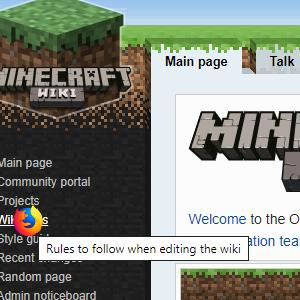firefox: (13, 206, 42, 237)
